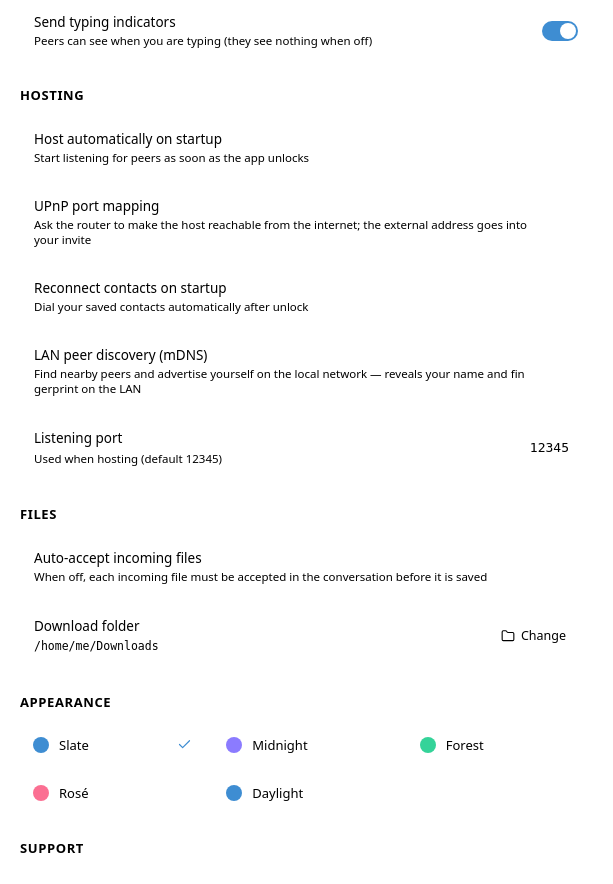
Test: Settings › refuses a port outside 1–65535 and restores the previous value
(page scrolled)
Replace the text in the field showing "12345" with "99999" at (536, 448), box top-left (494, 434), bottom-right (578, 461)
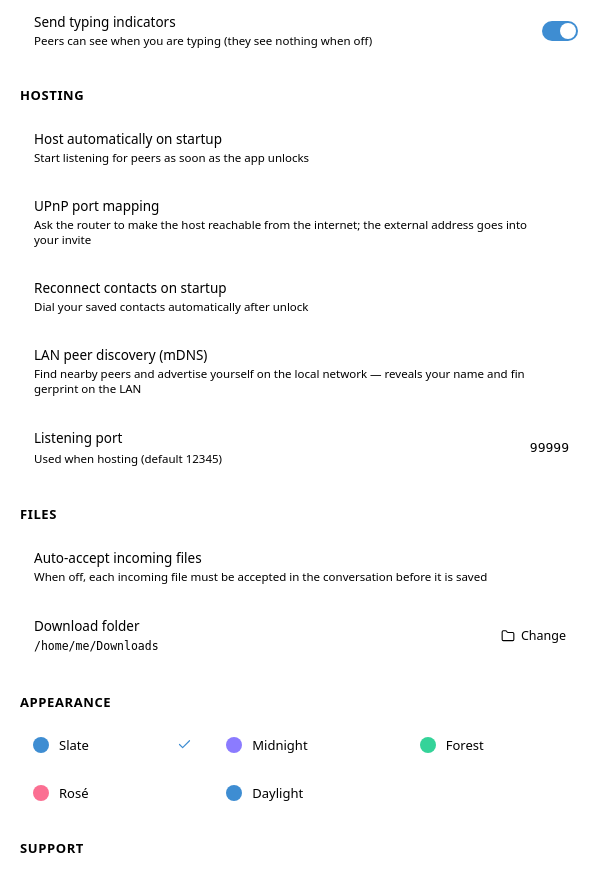
Press Tab
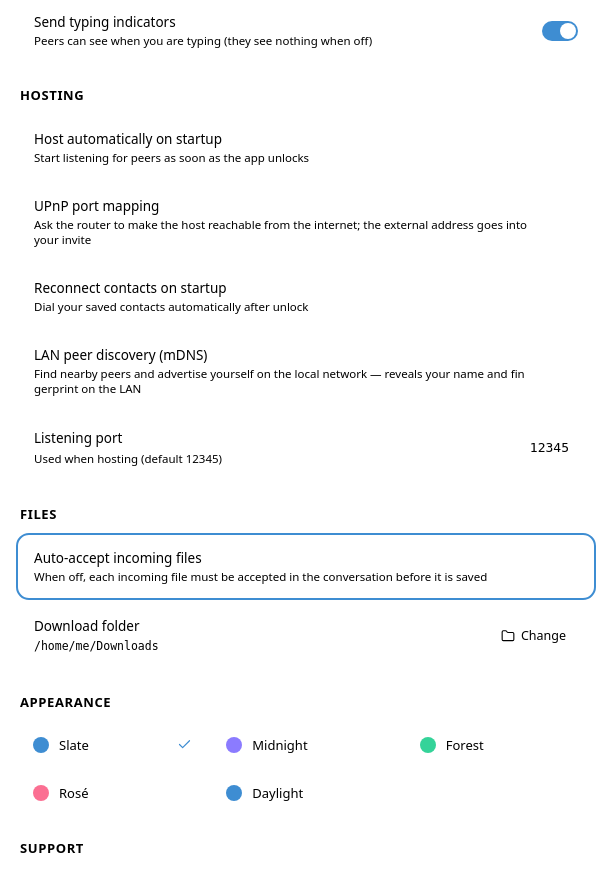
Now the field showing "12345" holds "12345", box top-left (494, 434), bottom-right (578, 461)
